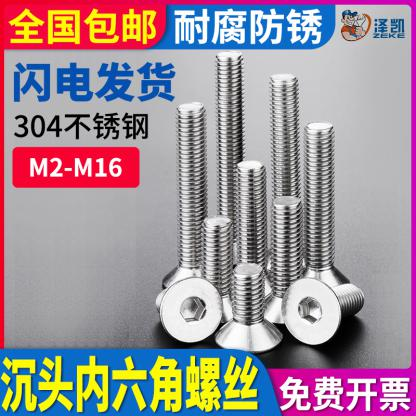FOD: (287, 119, 353, 296), (160, 101, 219, 292), (257, 196, 319, 326), (213, 264, 283, 353), (280, 276, 367, 346), (154, 276, 226, 345)
